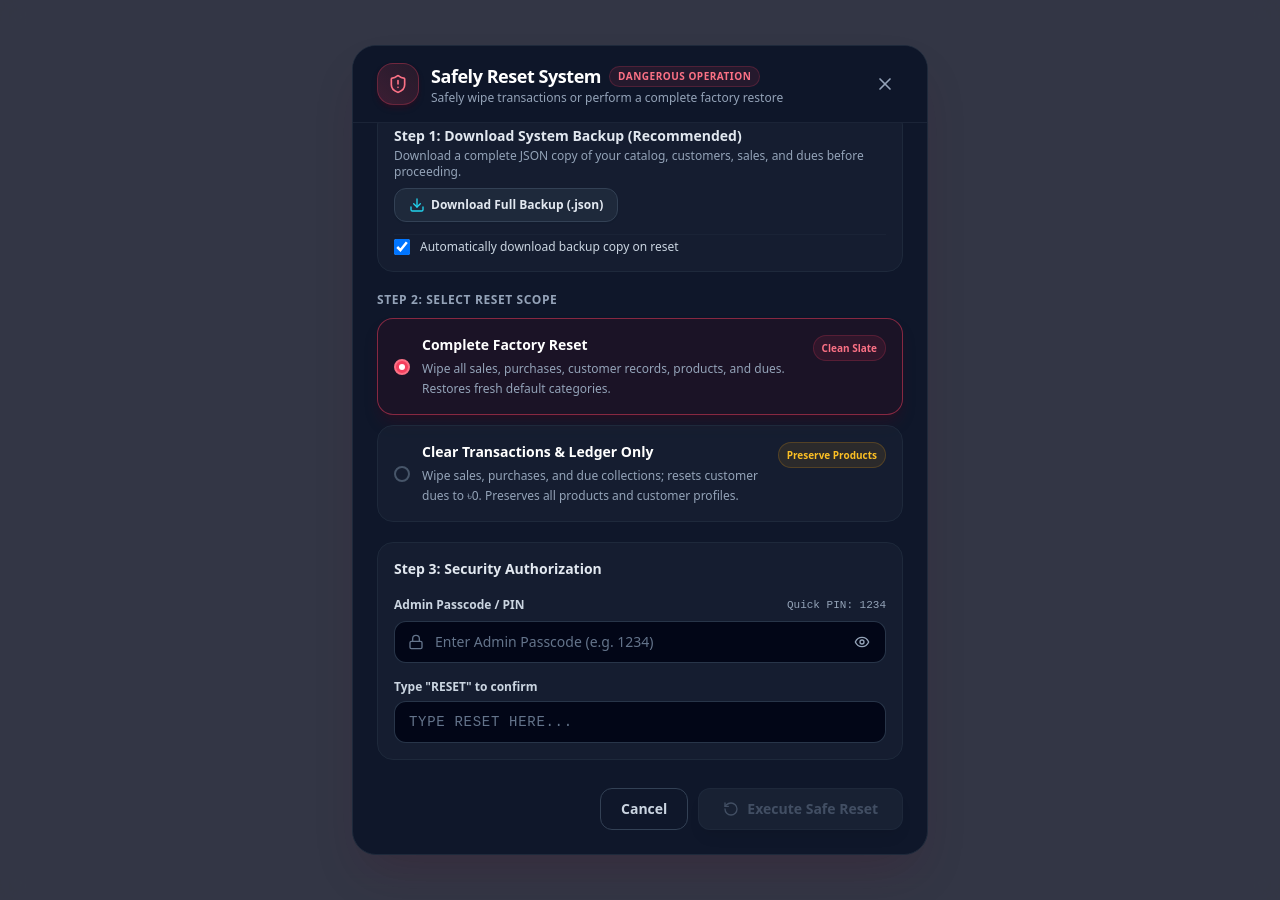
it: System Reset UI & Safety Modal › keeps submit button disabled until valid passcode and RESET keyword are typed
(page scrolled)
Check: the button "Execute Safe Reset" is disabled, box [698,788,903,830]
// Fill only passcode
Type "1234" into the password field with placeholder "Enter Admin Passcode (e.g. 1234)".
click(640, 642); type("1234")  # box [394,621,886,663]
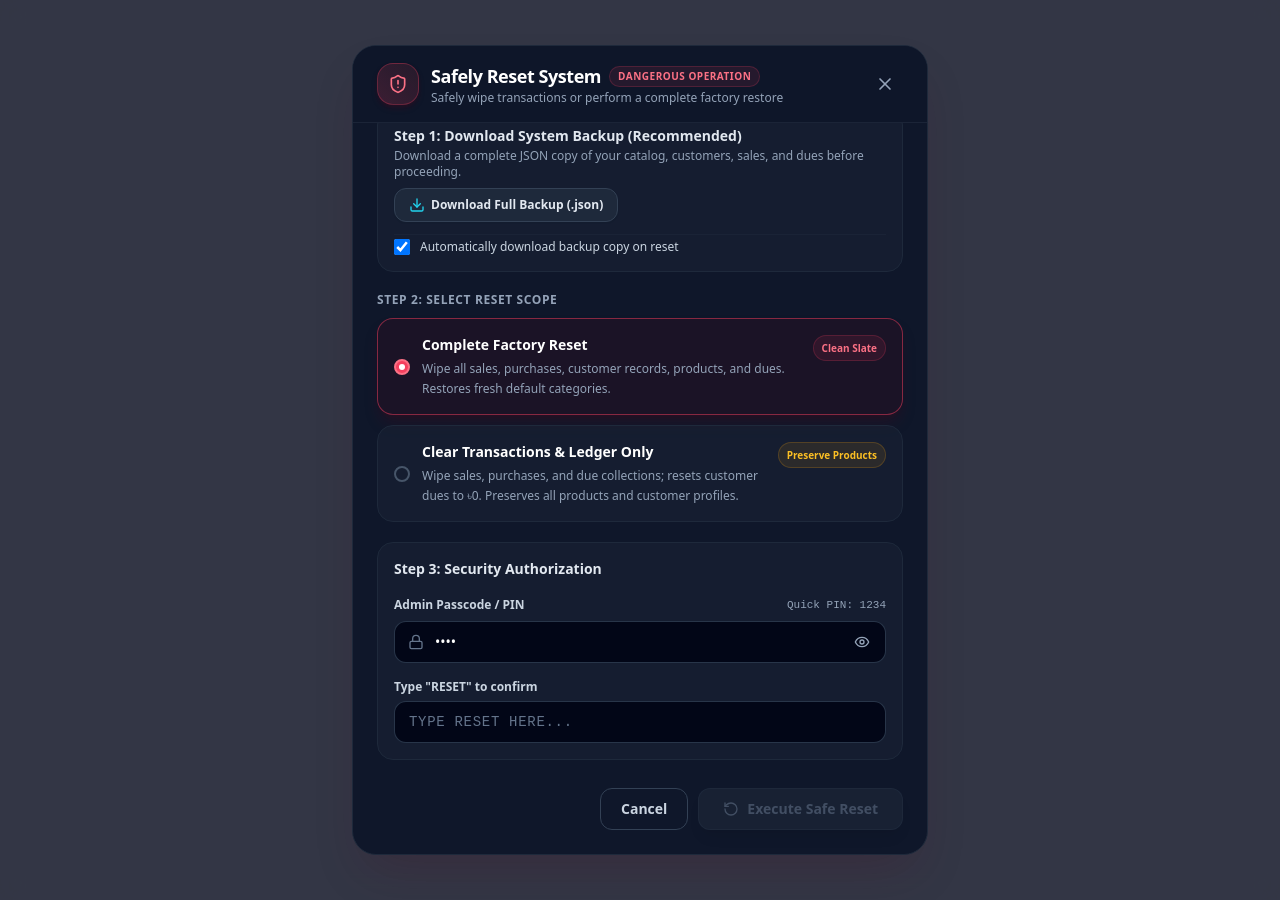
Check: the button "Execute Safe Reset" is disabled, box [698,788,903,830]
// Type incorrect confirmation keyword
Type "NOT_RESET" into the field with placeholder "Type RESET here...".
click(640, 722); type("NOT_RESET")  # box [394,701,886,743]
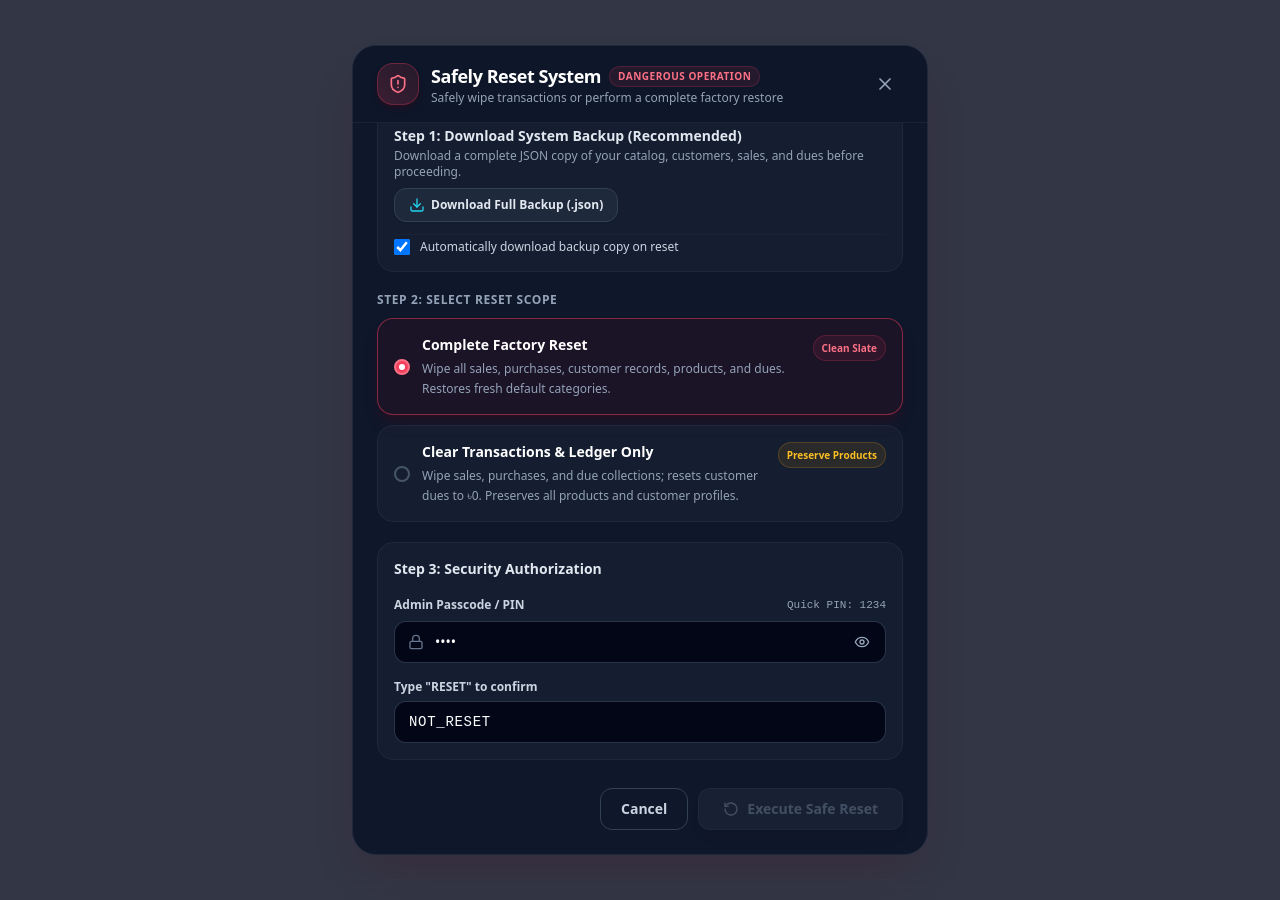
Check: the button "Execute Safe Reset" is disabled, box [698,788,903,830]
// Type exact RESET keyword
Replace the text in the field with placeholder "Type RESET here..." with "RESET" at {"x": 640, "y": 722}, box [394,701,886,743]
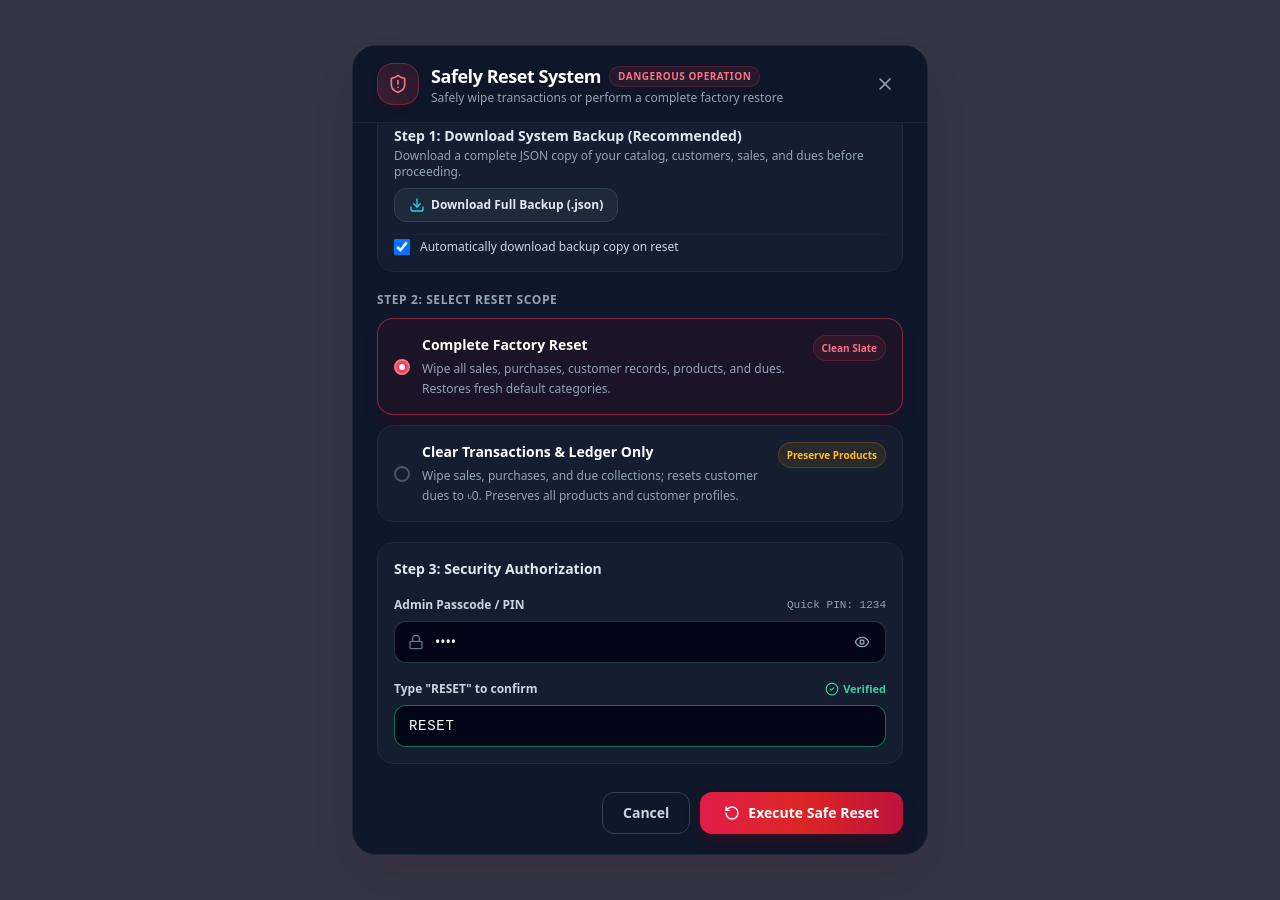
Check: the button "Execute Safe Reset" is enabled, box [700,792,903,834]
